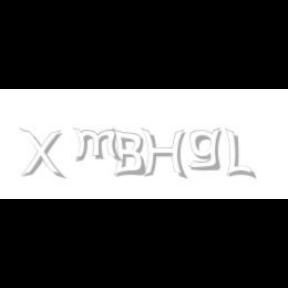B: (111, 128, 145, 178)
H: (141, 128, 187, 180)
L: (225, 128, 253, 180)
X: (19, 128, 63, 180)
g: (188, 128, 226, 171)
m: (71, 128, 123, 162)
